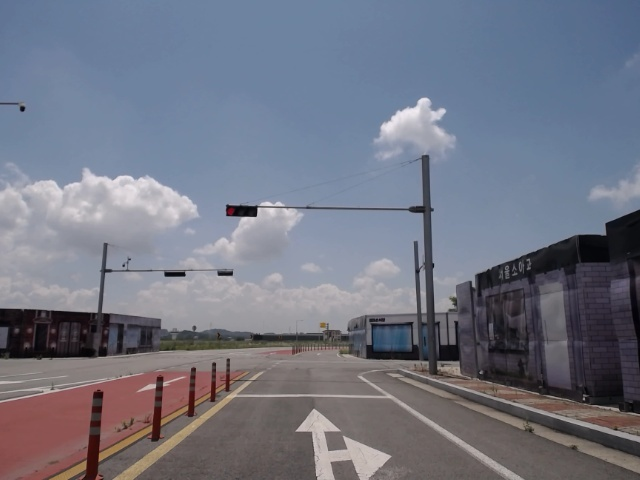red_3: (225, 204, 258, 218)
